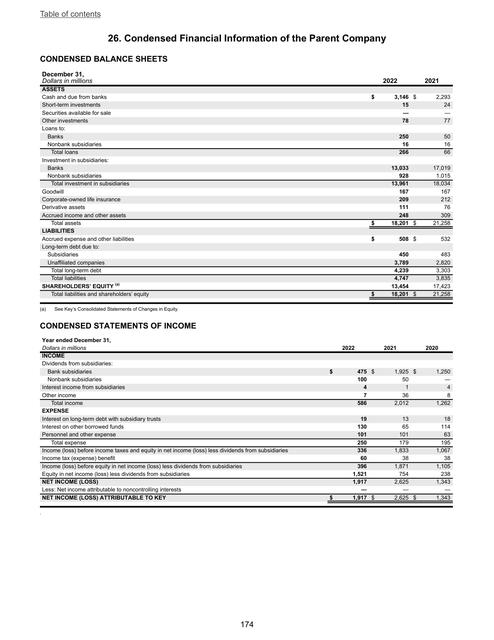box: (38, 70, 455, 308), (40, 337, 457, 510)
